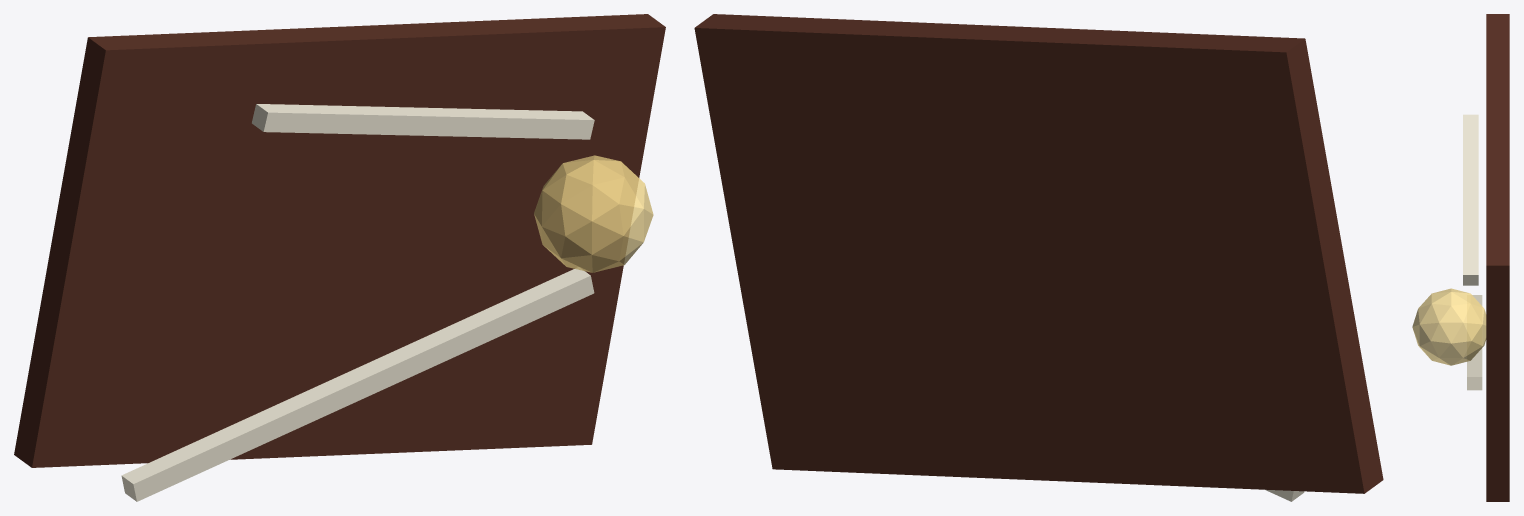
File: 02_world_prop_polish.glb
3 renders of one model, left to right at view 1: azimuth 30°, elevation 25°; view 2: azimuth 150°, elevation 25°; view 3: azimuth 270°, elevation 25°, orthographic. The views are drawn at different scales.
Parts seen in each view (by area): view 1: object_overlay_plate, edge_wear_a, glow_socket, edge_wear_b; view 2: object_overlay_plate; view 3: object_overlay_plate, glow_socket, edge_wear_b, edge_wear_a.
Boxes of the visible parts, box(x1,y1,x2,y2) form: object_overlay_plate: box(14, 14, 665, 467); edge_wear_a: box(121, 268, 594, 501); glow_socket: box(534, 155, 653, 272); edge_wear_b: box(252, 104, 594, 139); object_overlay_plate: box(694, 14, 1383, 493); object_overlay_plate: box(1486, 14, 1509, 501); glow_socket: box(1412, 288, 1486, 365); edge_wear_b: box(1463, 114, 1478, 285); edge_wear_a: box(1467, 295, 1482, 390).
Size of the model in its own units: 1.22 by 0.9454 by 0.25.
